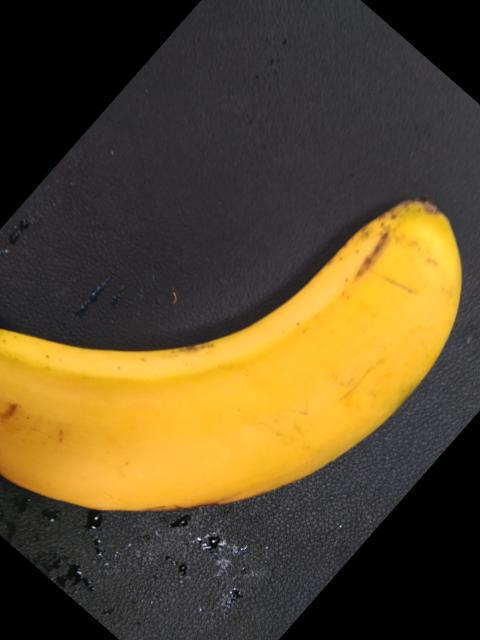freshripe: (0, 194, 453, 598)
